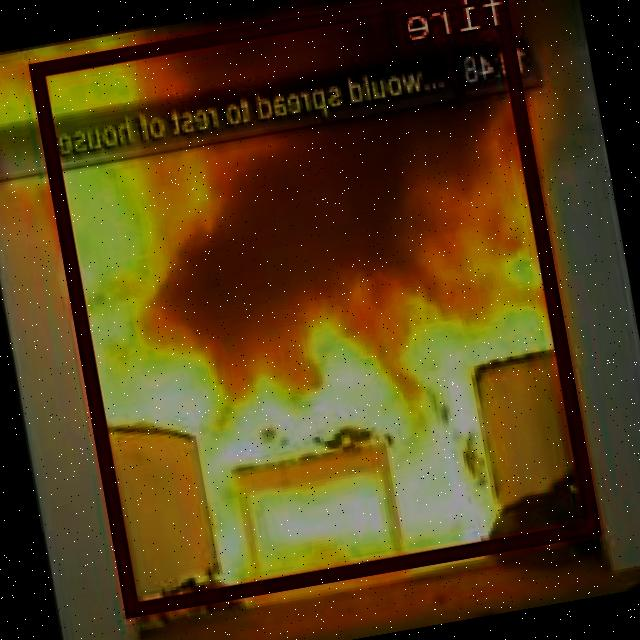fire: (33, 0, 602, 613)
